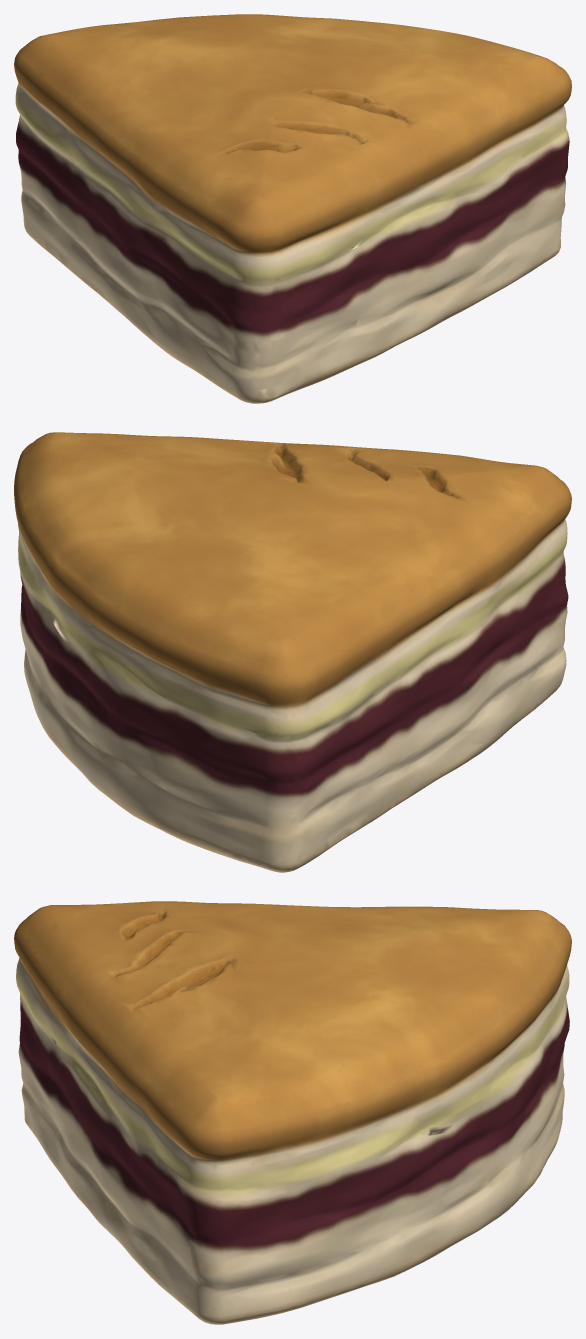
The model's file is scone--redbean-swirl.glb.
3 renders of one model, top to bottom at view 1: azimuth 30°, elevation 25°; view 2: azimuth 150°, elevation 25°; view 3: azimuth 270°, elevation 25°, orthographic. The views are drawn at different scales.
Visible parts, largest first — view 1: scone_redbean-swirl; view 2: scone_redbean-swirl; view 3: scone_redbean-swirl.
Part boxes in pixels (x1,y1,x2,y2): scone_redbean-swirl: (14, 14, 571, 403); scone_redbean-swirl: (14, 432, 571, 872); scone_redbean-swirl: (14, 901, 571, 1324).
Bounding box in the file's own units: 0.9371 × 0.4669 × 0.9745.
1 material, 1 textured.
